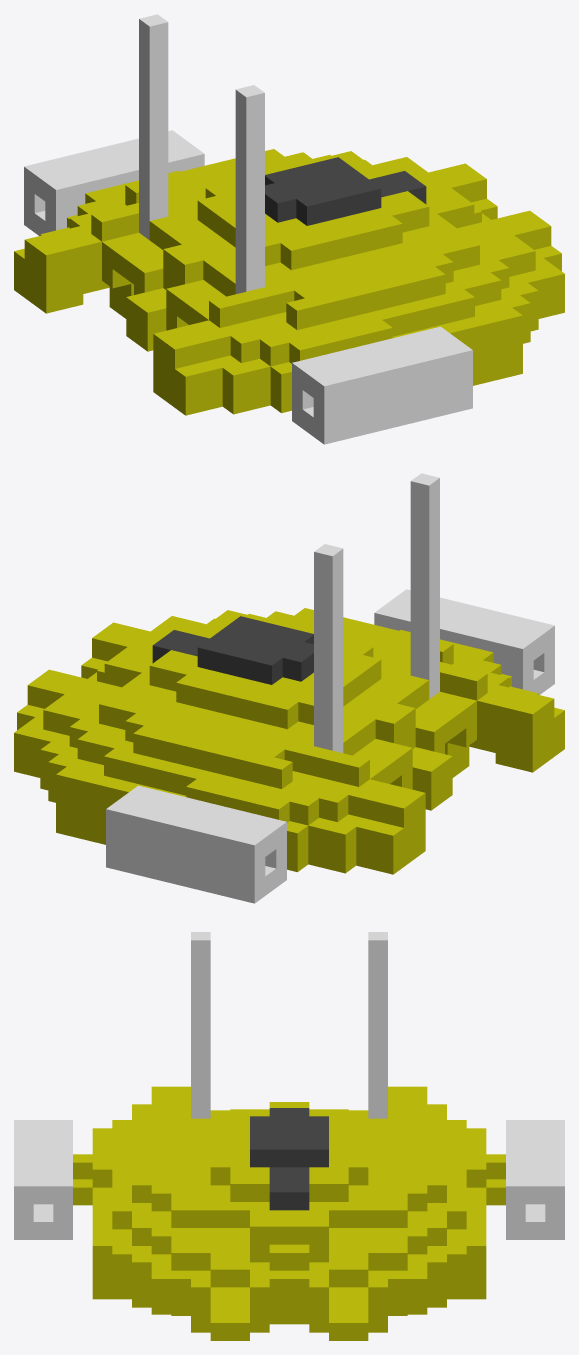
Rendered from MammothTankTower.obj.
3 renders of one model, top to bottom at view 1: azimuth 30°, elevation 25°; view 2: azimuth 150°, elevation 25°; view 3: azimuth 270°, elevation 25°, orthographic. The views are drawn at different scales.
Size of the model in its own units: 2.2 by 1.6 by 2.8.
1 material, 1 textured.
